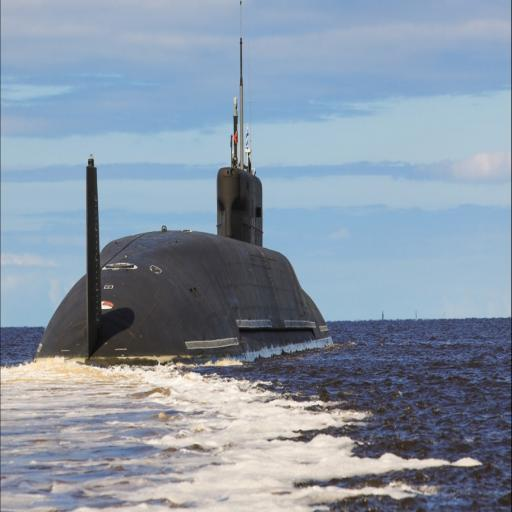submarine: (28, 2, 339, 375)
